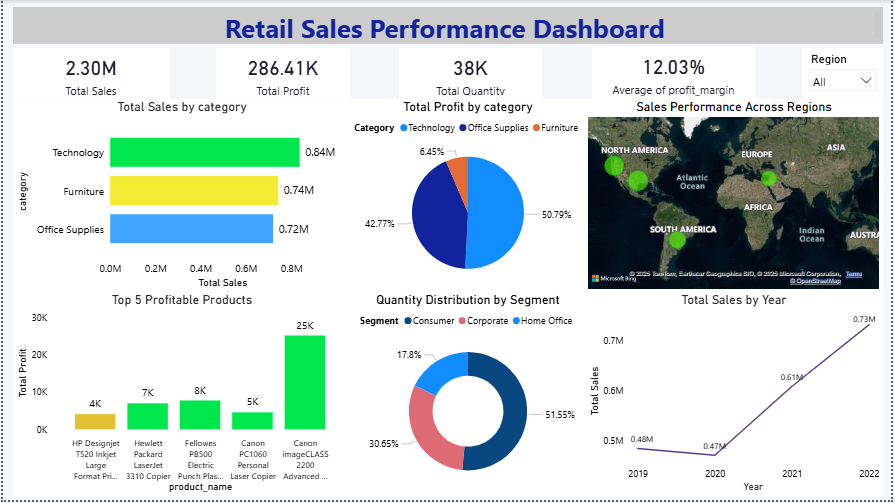

Layout of this report page (visuals, bound fields, positions):
{"tool":"powerbi","page":{"name":"Page 1","canvas":[1280,720],"ordinal":0},"visuals":[{"type":"card","fields":{"Values":["salesdata.Total Sales"]},"box":[14.4,69.1,224.6,73.4],"z":0},{"type":"card","fields":{"Values":["salesdata.Total Profit"]},"box":[306.7,69.1,193,73.4],"z":1000},{"type":"card","fields":{"Values":["salesdata.Total Quantity"]},"box":[570.2,69.1,205.9,73.4],"z":2000},{"type":"card","fields":{"Values":["Avg(salesdata.profit_margin)"]},"box":[848.2,67.7,234.7,74.9],"z":3000},{"type":"textbox","box":[14.4,10.1,1252.8,53.3],"z":4000},{"type":"barChart","fields":{"Category":["salesdata.category"],"Y":["salesdata.Total Sales"]},"box":[14.4,142.6,486.7,277.9],"z":5000},{"type":"map","title":"Sales Performance Across Regions","fields":{"Size":["salesdata.Total Sales"],"Category":["salesdata.region"]},"box":[838.1,142.6,429.1,277.9],"z":6000},{"type":"lineChart","fields":{"Category":["salesdata.month.Variation.Date Hierarchy.Year","salesdata.month.Variation.Date Hierarchy.Quarter","salesdata.month.Variation.Date Hierarchy.Month","salesdata.month.Variation.Date Hierarchy.Day"],"Y":["salesdata.Total Sales"]},"box":[838.1,420.5,429.1,293.8],"z":7000},{"type":"pieChart","fields":{"Category":["salesdata.category"],"Y":["salesdata.Total Profit"]},"box":[501.1,142.6,337,277.9],"z":8000},{"type":"donutChart","title":"Quantity Distribution by Segment","fields":{"Category":["salesdata.segment"],"Y":["salesdata.Total Quantity"]},"box":[501.1,420.5,337,293.8],"z":9000},{"type":"columnChart","title":"Top 5 Profitable Products","fields":{"Category":["salesdata.product_name"],"Y":["salesdata.Total Profit"]},"box":[14.4,420.5,486.7,293.8],"z":10000},{"type":"slicer","fields":{"Values":["salesdata.region"]},"box":[1150.6,69.1,116.6,73.4],"z":11000}]}

Visuals, with their boxes in screenshot pixels (x1, y1, x2, y2), scaled from the page's 1280x720 canvas onto the 895x503 screenshot:
card - salesdata.Total Sales: crop(10, 48, 167, 100)
card - salesdata.Total Profit: crop(214, 48, 349, 100)
card - salesdata.Total Quantity: crop(399, 48, 543, 100)
card - Avg(salesdata.profit_margin): crop(593, 47, 757, 100)
textbox: crop(10, 7, 886, 44)
barChart - salesdata.category x salesdata.Total Sales: crop(10, 100, 350, 294)
"Sales Performance Across Regions" map: crop(586, 100, 886, 294)
lineChart - salesdata.month.Variation.Date Hierarchy.Year x salesdata.month.Variation.Date Hierarchy.Quarter: crop(586, 294, 886, 499)
pieChart - salesdata.category x salesdata.Total Profit: crop(350, 100, 586, 294)
"Quantity Distribution by Segment" donutChart: crop(350, 294, 586, 499)
"Top 5 Profitable Products" columnChart: crop(10, 294, 350, 499)
slicer - salesdata.region: crop(805, 48, 886, 100)
